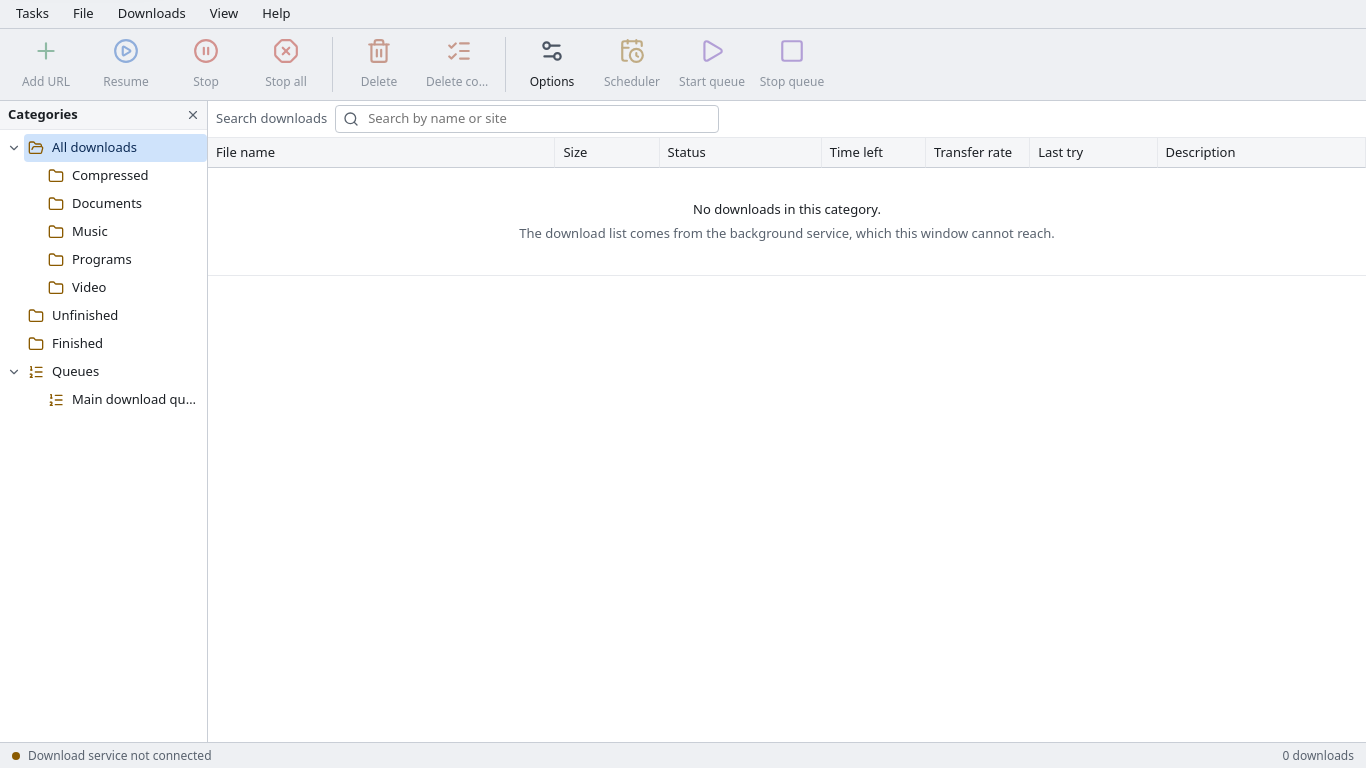
Test case: classic download-manager window › opens Options from the toolbar, switches to Bangla, and returns focus on Escape
The width and height of the screenshot is (1366, 768).
Click the button "Options". click: click(552, 64)
box: [514,33,590,96]
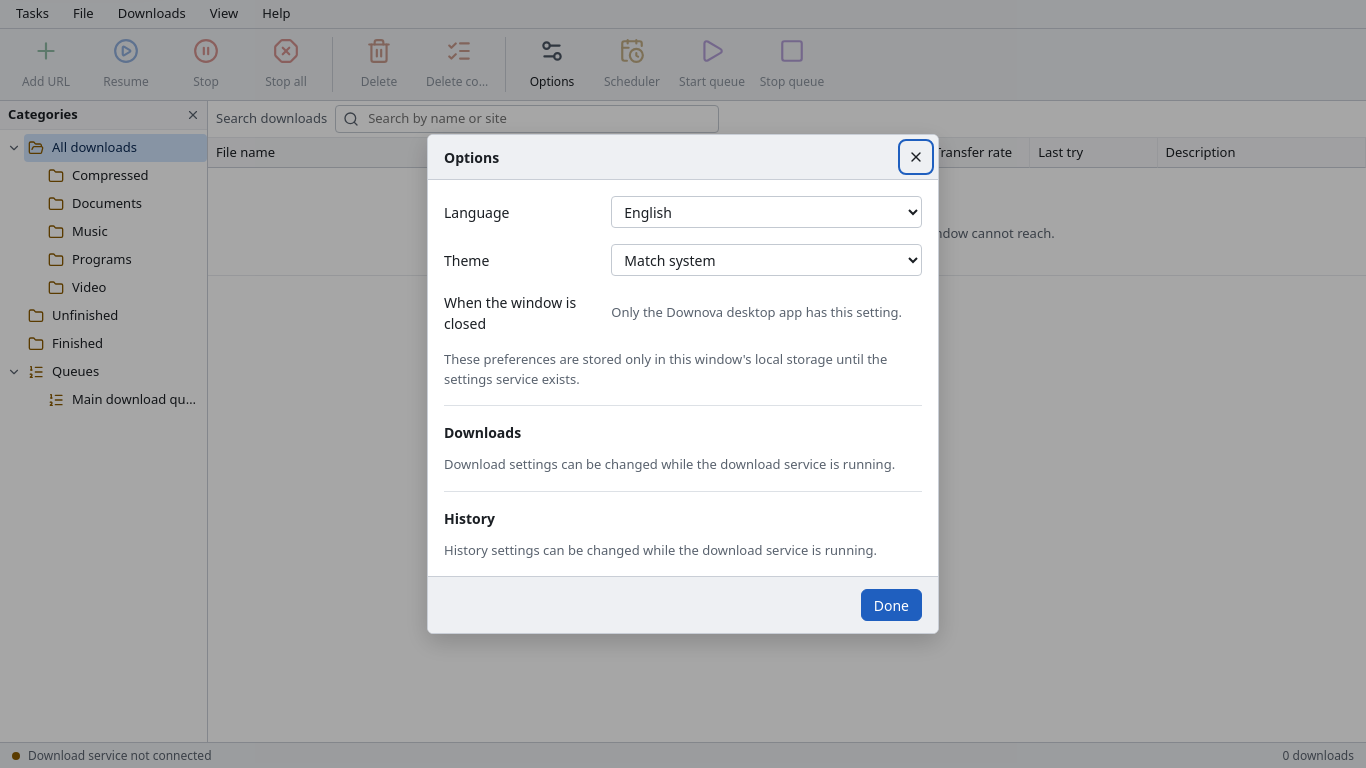
Select "বাংলা (Bangla)" in the dropdown labelled "Language". click: (767, 212)
box: [611,196,922,228]
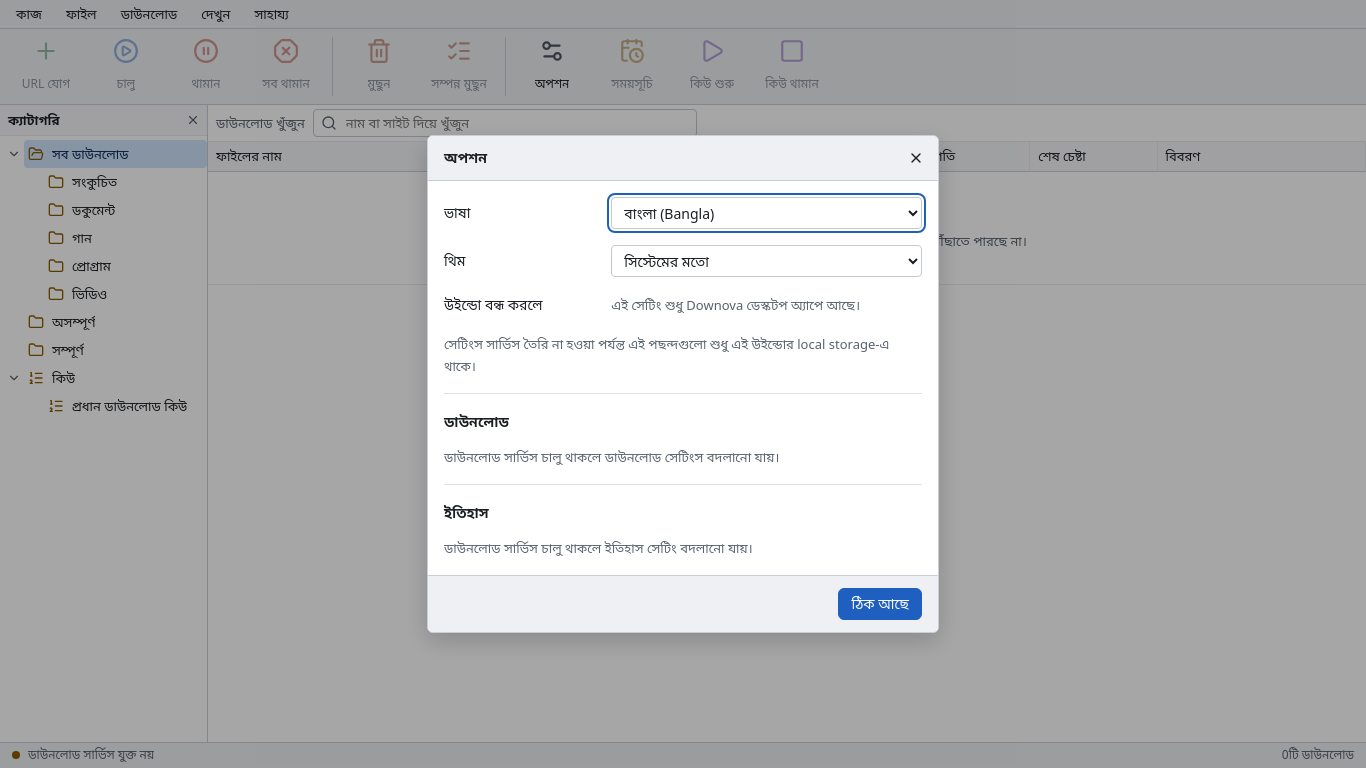
Now the dialog "অপশন" is shown, box [427,135,939,633]
Press Escape
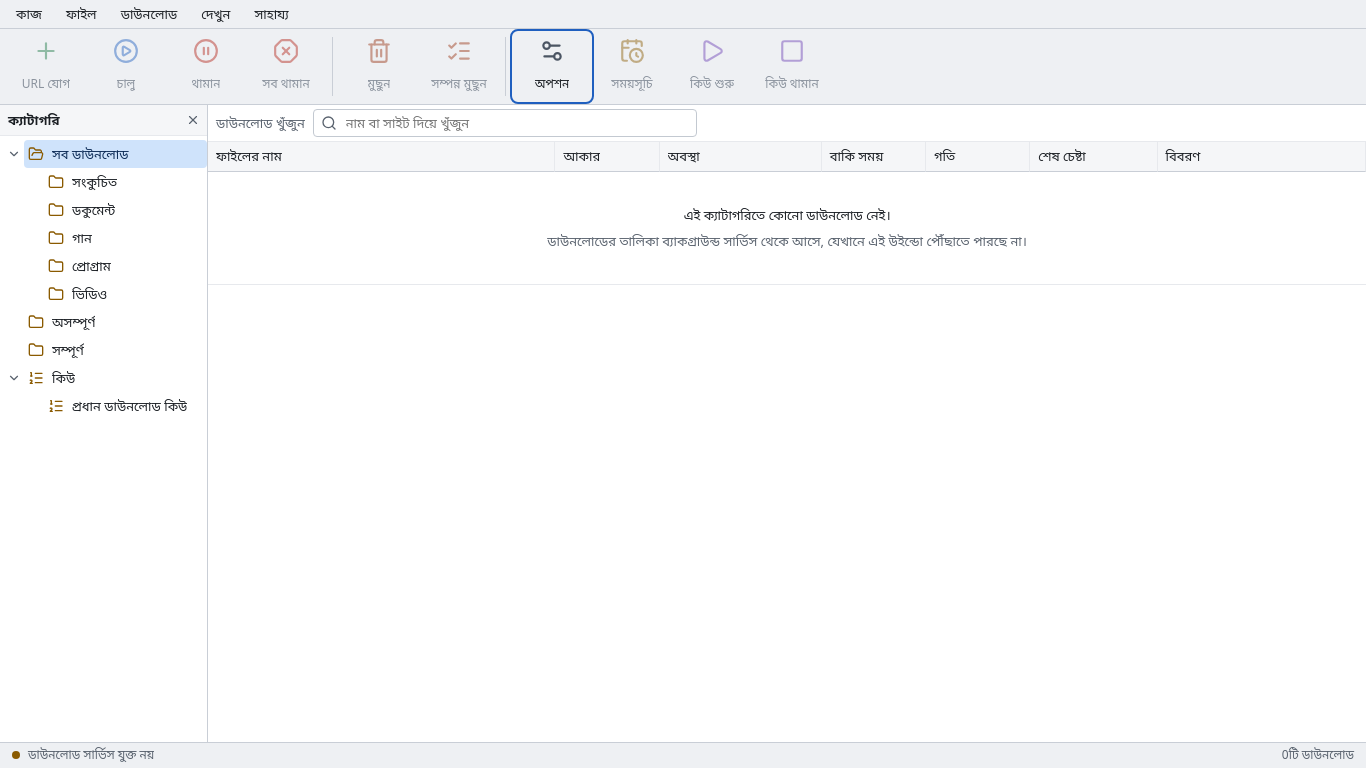
Now the dialog is gone
